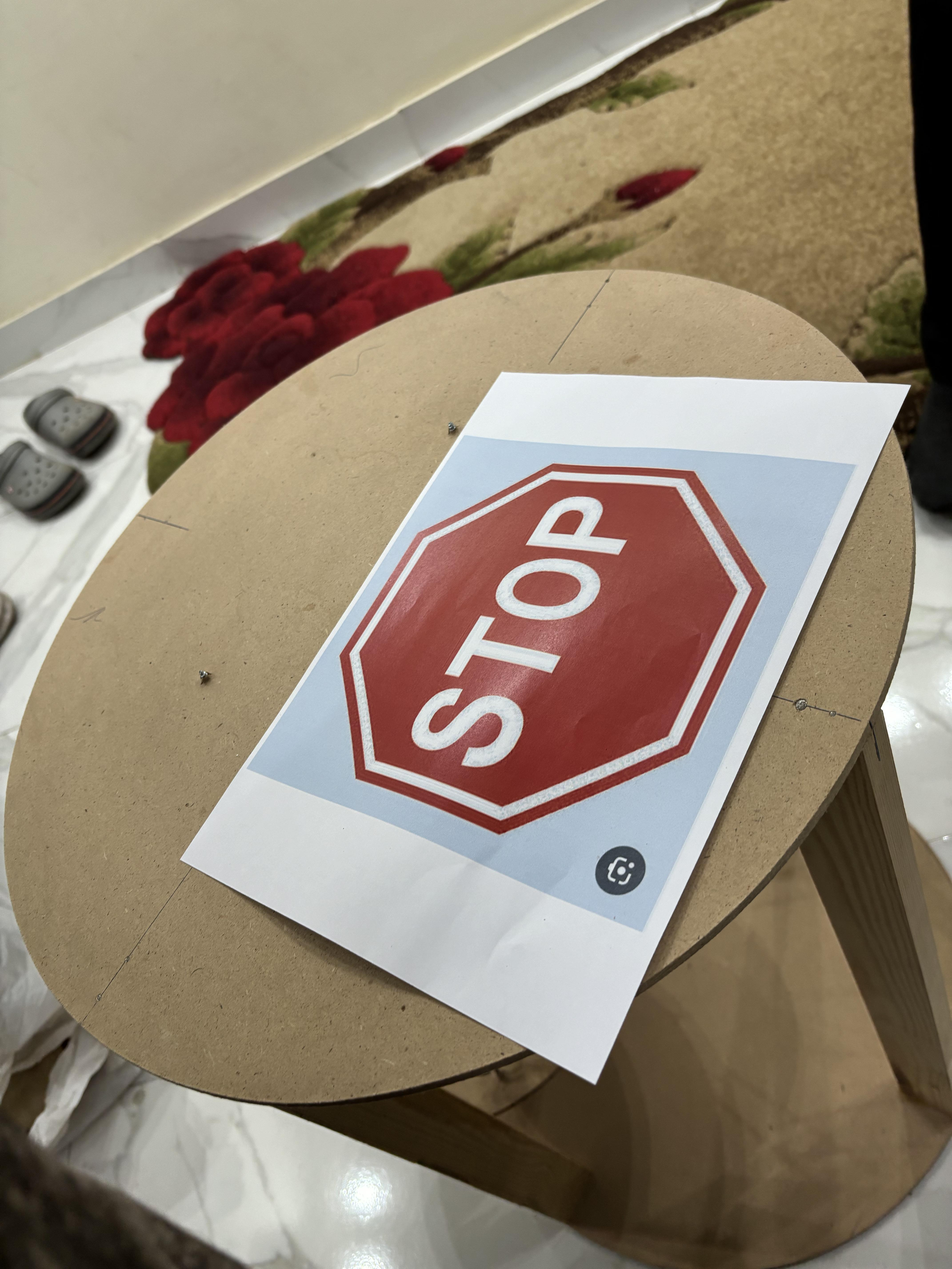Stop: (335, 443, 776, 833)
